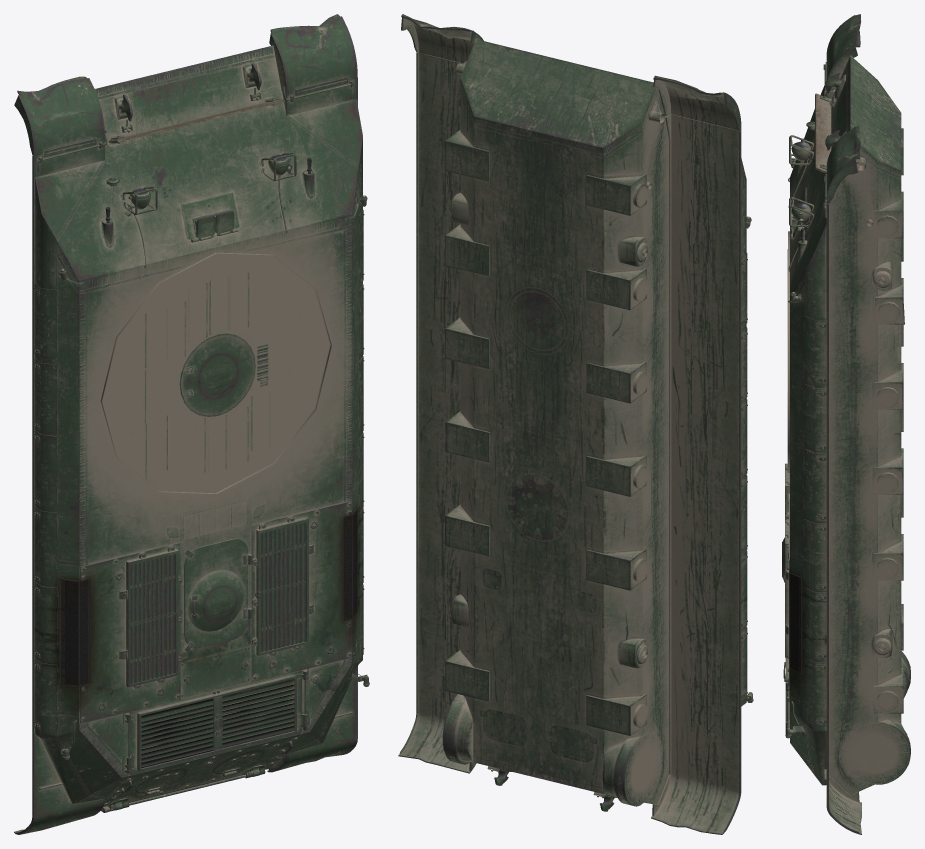
Rendered from Hull.glb.
3 renders of one model, left to right at view 1: azimuth 30°, elevation 25°; view 2: azimuth 150°, elevation 25°; view 3: azimuth 270°, elevation 25°, orthographic. The views are drawn at different scales.
Visible parts, largest first — view 1: set_0_group_0; view 2: set_0_group_0; view 3: set_0_group_0.
Part boxes in pixels (bbox=[...]): set_0_group_0: bbox=[14, 14, 369, 834]; set_0_group_0: bbox=[398, 14, 753, 834]; set_0_group_0: bbox=[782, 14, 910, 834].
Size of the model in its own units: 3.45 by 7.51 by 1.29.
1 material, 1 textured.
